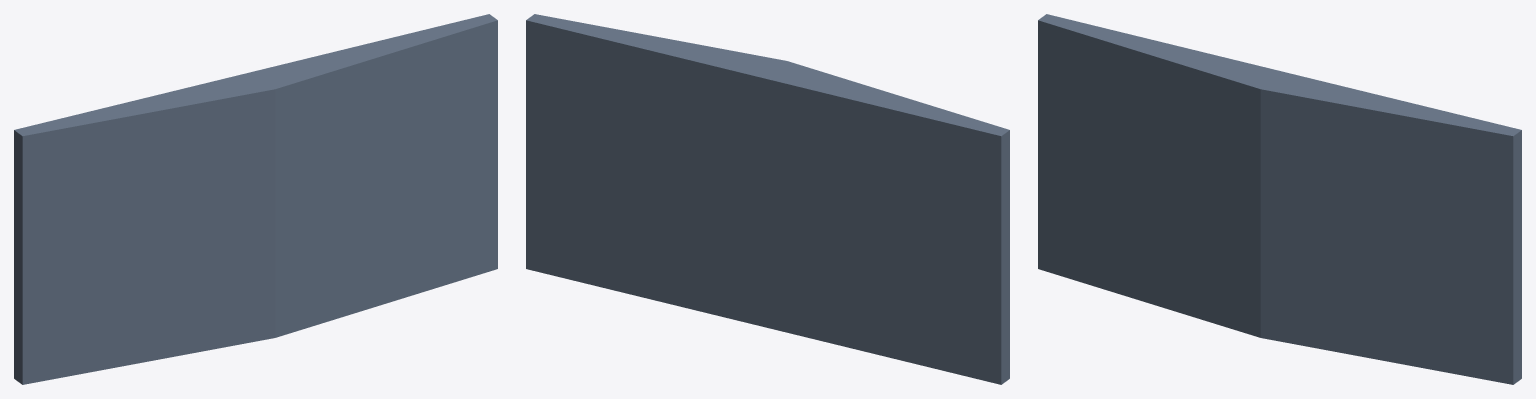
Rendered from hill_return_east.obj.
3 renders of one model, left to right at view 1: azimuth 30°, elevation 25°; view 2: azimuth 150°, elevation 25°; view 3: azimuth 330°, elevation 25°, orthographic.
Parts seen in each view (by area): view 1: solid_terrain; view 2: solid_terrain; view 3: solid_terrain.
Boxes of the visible parts, <box> form: solid_terrain: <box>14,14,497,384</box>; solid_terrain: <box>526,14,1009,384</box>; solid_terrain: <box>1038,14,1521,384</box>.
Size of the model in its own units: 6.4 by 3.2 by 0.55.
